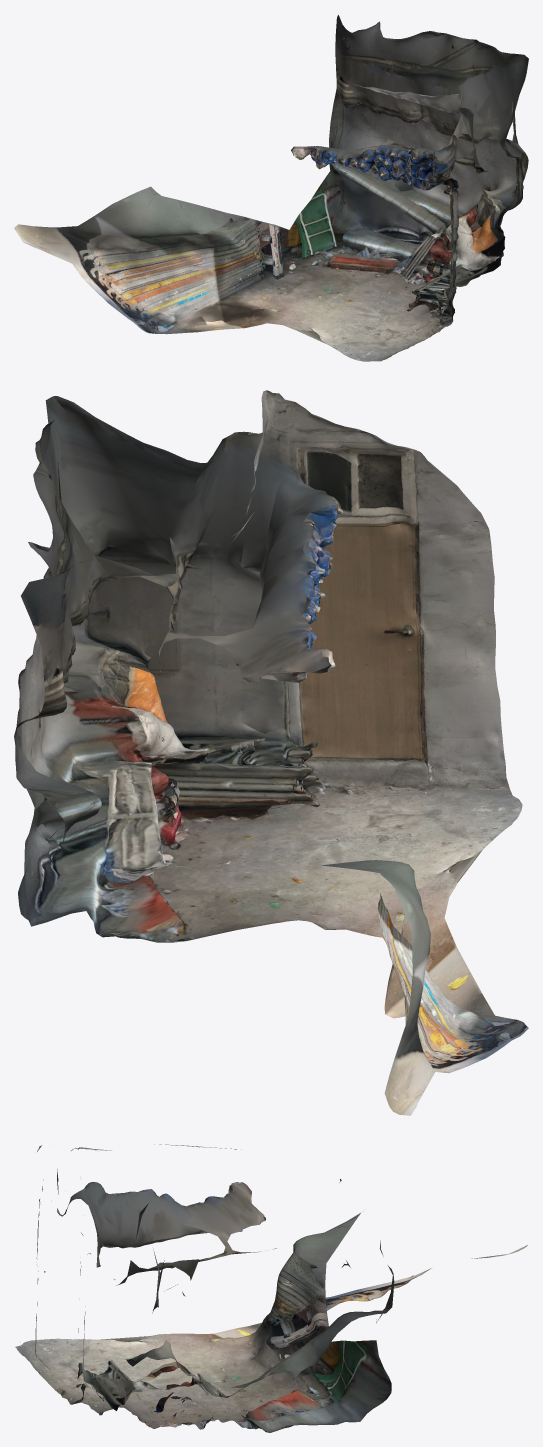
File: warehouse.gltf
3 views of the same model, one above another, from view 1: azimuth 30°, elevation 25°; view 2: azimuth 150°, elevation 25°; view 3: azimuth 270°, elevation 25° (orthographic). The views are drawn at different scales.
Parts seen in each view (by area): view 1: Default; view 2: Default; view 3: Default.
Boxes of the visible parts, left/top/right/bottom form: Default: left=14, top=15, right=528, bottom=361; Default: left=14, top=390, right=528, bottom=1115; Default: left=15, top=1144, right=527, bottom=1432.
Size of the model in its own units: 0.0175 by 0.0119 by 0.0184.
Materials: 1 (1 with a texture image).
